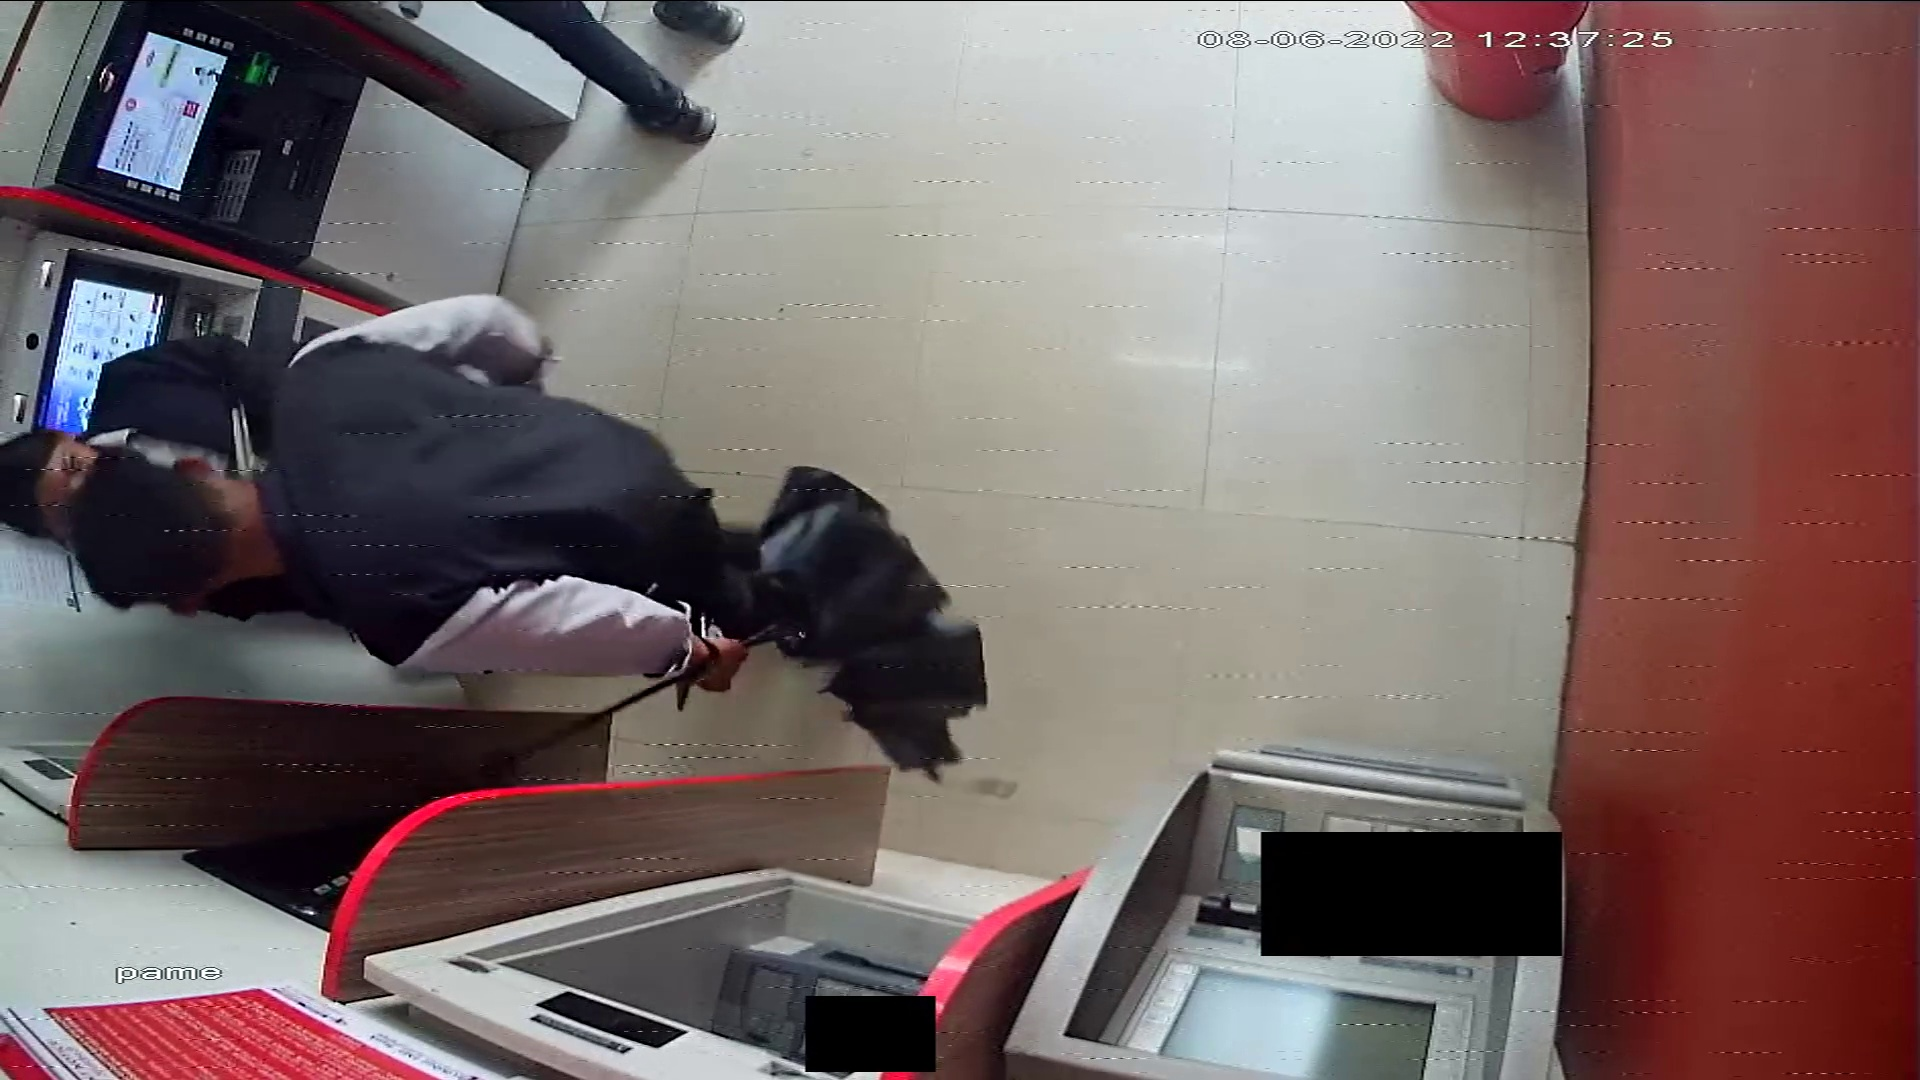person: (94, 294, 941, 698), (2, 328, 252, 590), (473, 3, 771, 151)
